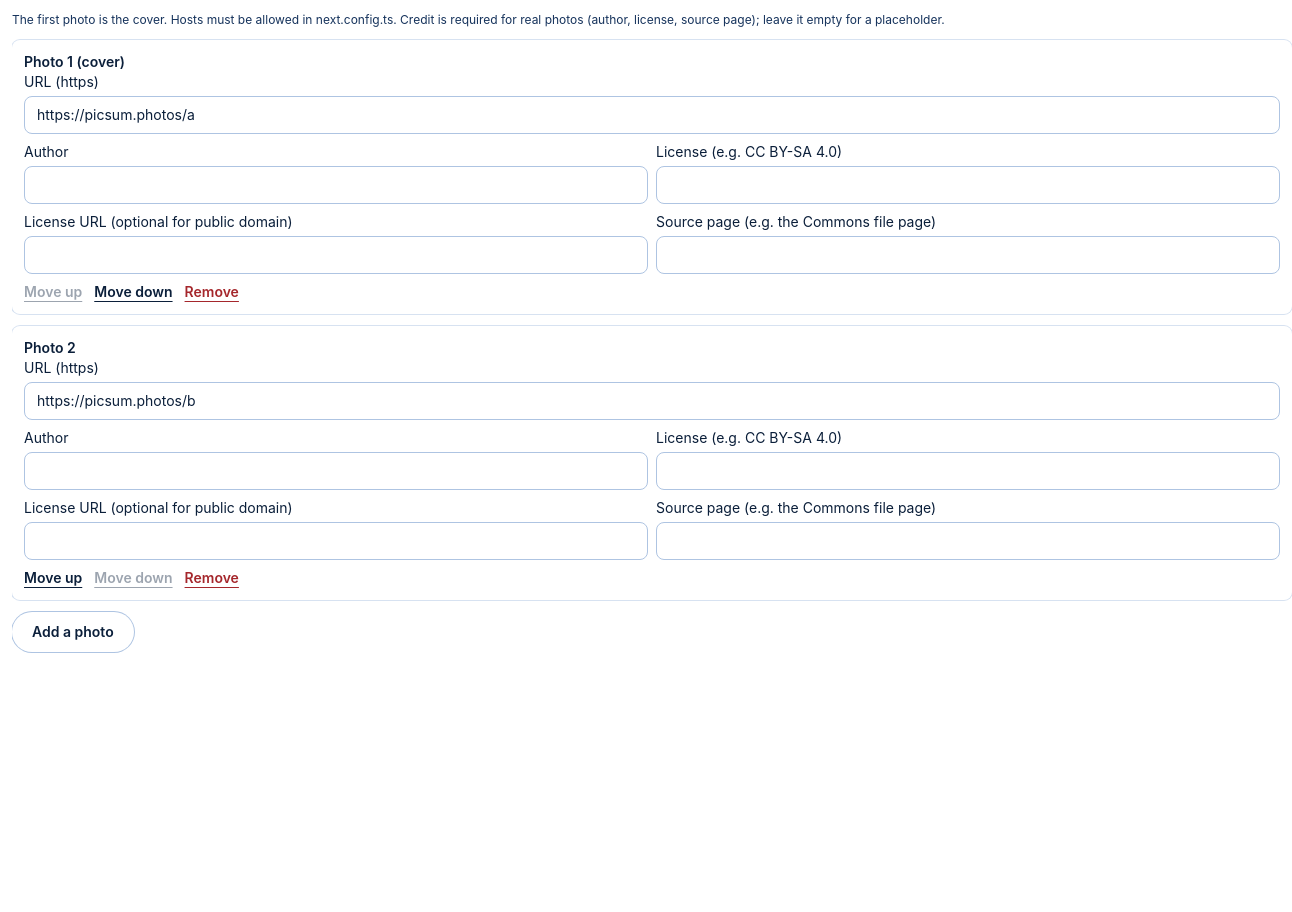
Test case: PhotosEditor › reorders the cover and requires a complete credit once one is started
Click the button with aria-label "Move Photo 2 up" at x=53, y=578, box x1=24 y1=568 x2=82 y2=588
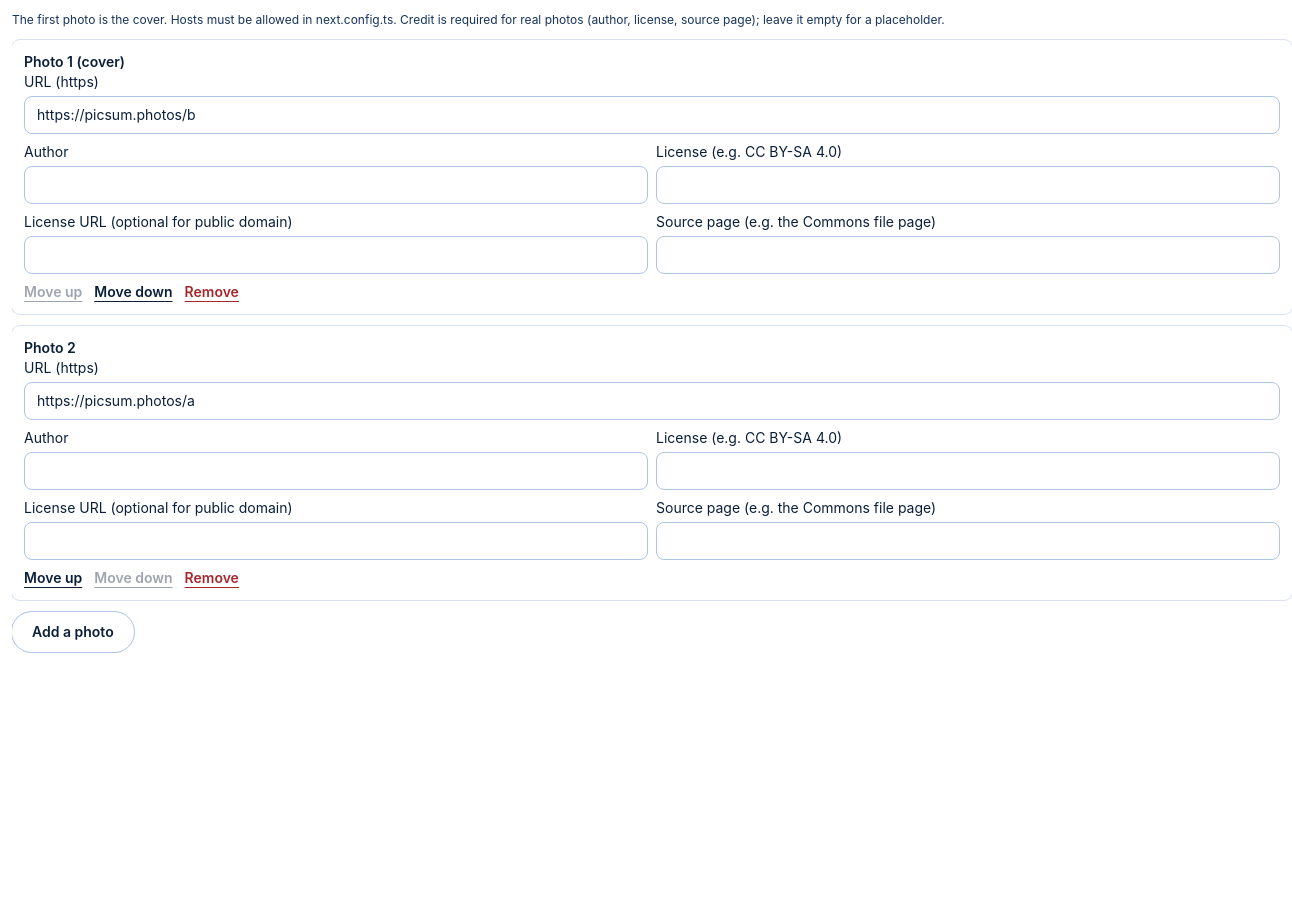
Type "Jane Doe" into the field labelled "Author" below "Photo 1" at x=336, y=185, box x1=24 y1=166 x2=648 y2=204
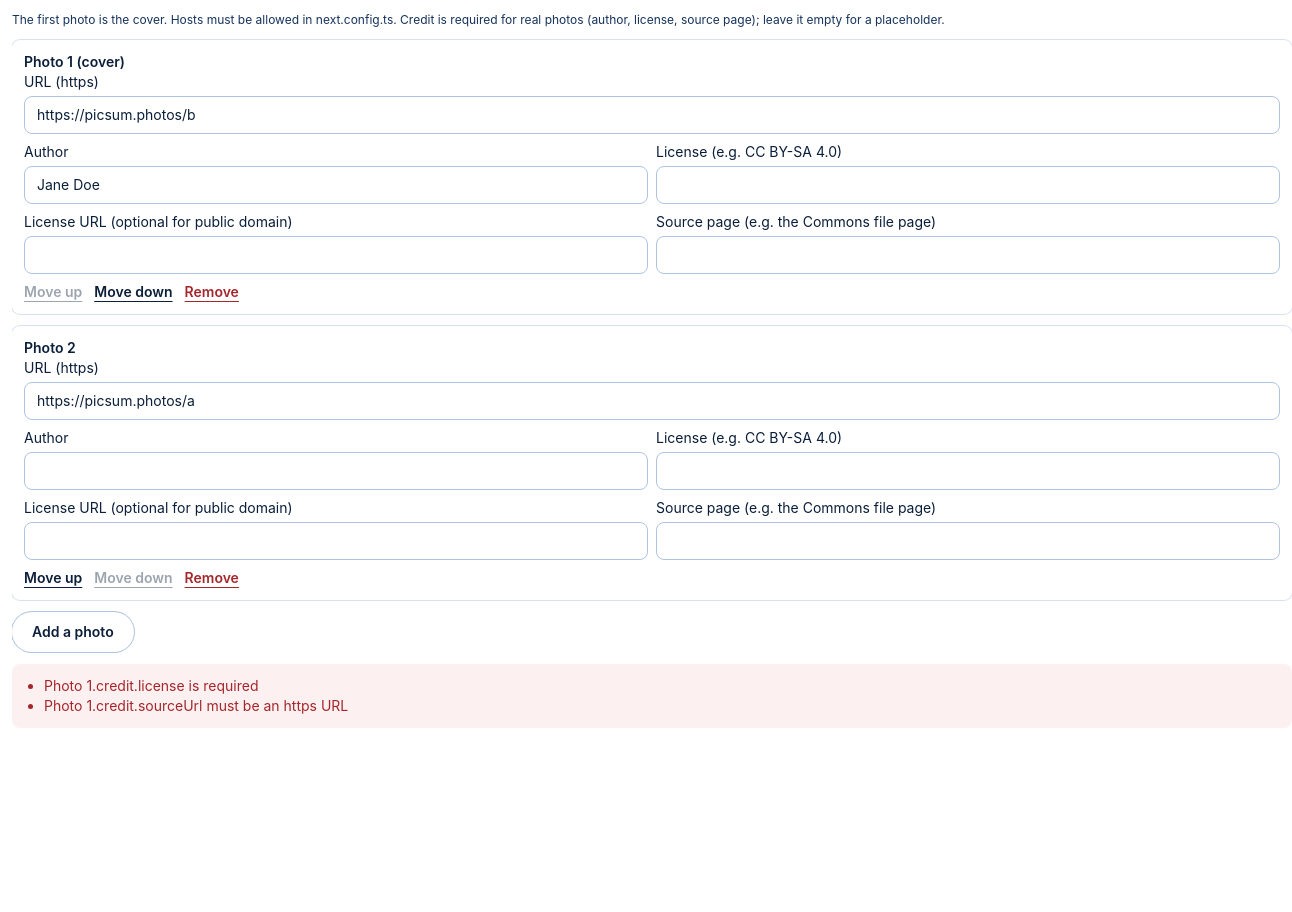
Now the message shows "Photo 1.credit.license is required", box x1=44 y1=677 x2=258 y2=694
Now the message shows "Photo 1.credit.sourceUrl must be an https URL", box x1=44 y1=697 x2=348 y2=714
Type "CC0" into the 1st field labelled "License (e.g. CC BY-SA 4.0)" at x=968, y=185, box x1=656 y1=166 x2=1280 y2=204
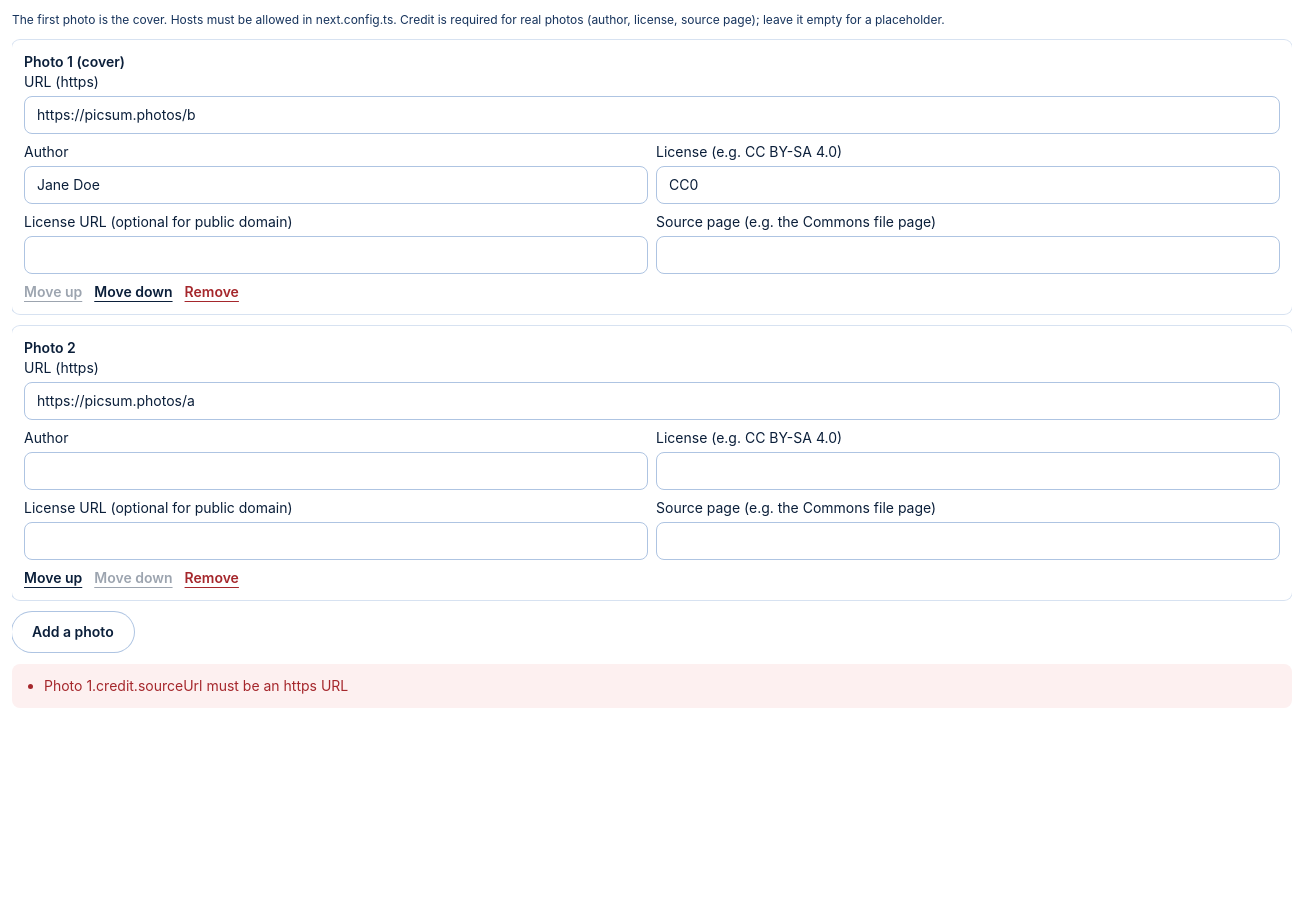
Type "https://commons.wikimedia.org/wiki/File:B.jpg" into the 1st field labelled "Source page (e.g. the Commons file page)" at x=968, y=255, box x1=656 y1=236 x2=1280 y2=274
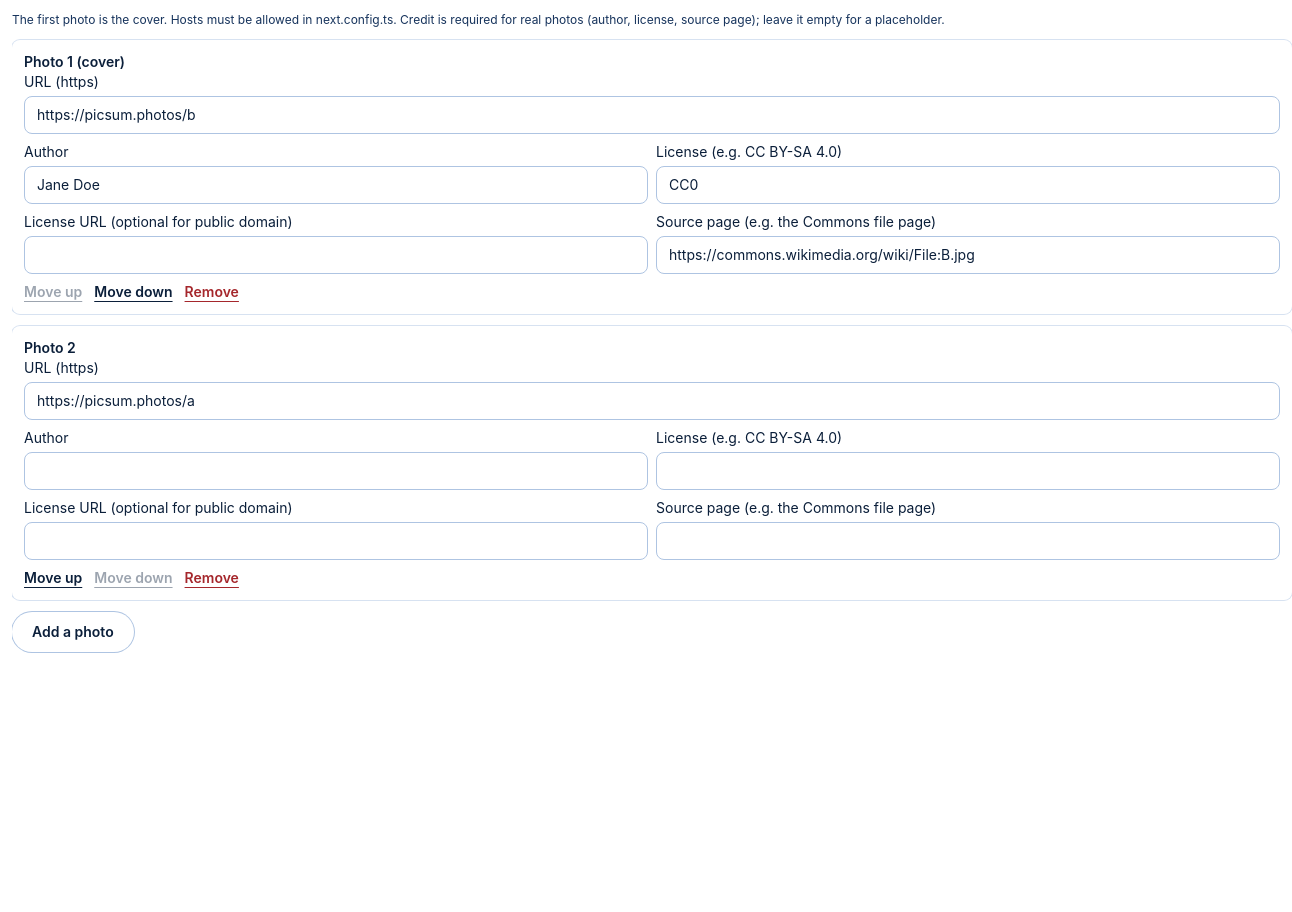
Now the message "Photo 1.credit.sourceUrl must be an https URL" is gone
